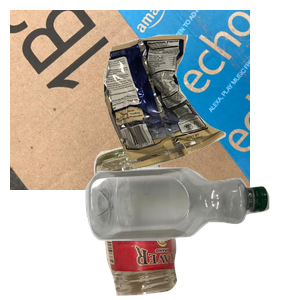cardboard: (10, 10, 250, 190)
glass: (91, 142, 260, 300)
plastic: (83, 165, 300, 300)
trash: (101, 32, 300, 195)
